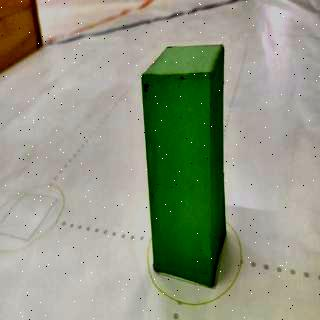greenbox: (140, 43, 228, 290)
